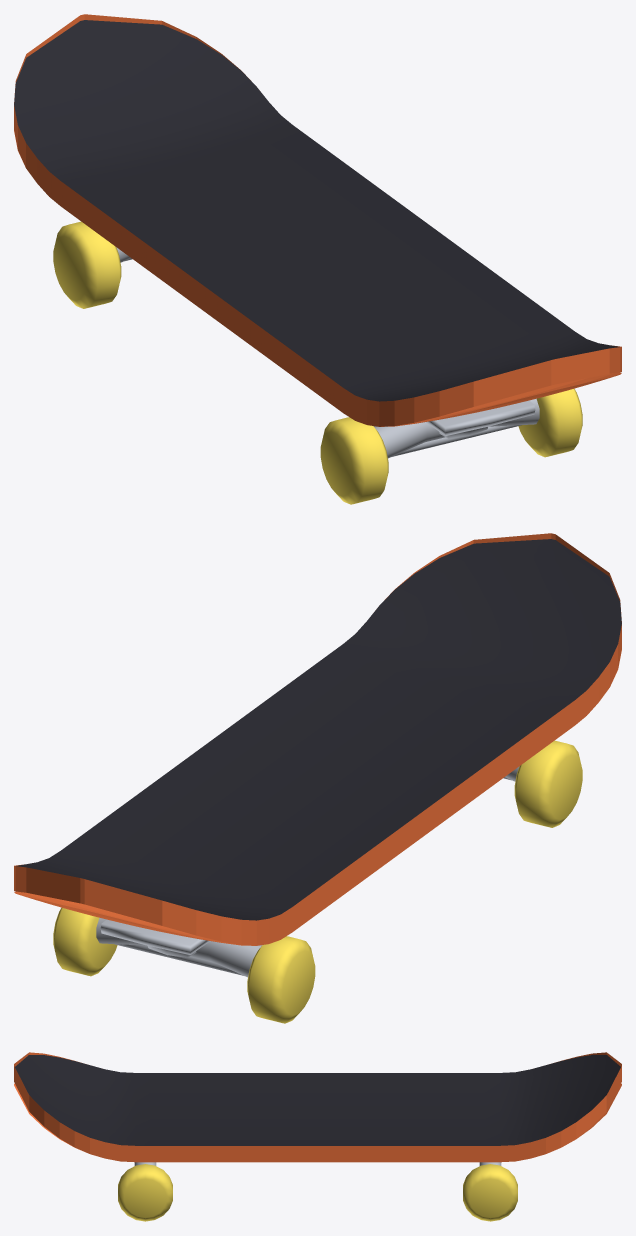
Rendered from SkateBoard.obj.
3 views of the same model, one above another, from view 1: azimuth 30°, elevation 25°; view 2: azimuth 150°, elevation 25°; view 3: azimuth 270°, elevation 25° (orthographic). The views are drawn at different scales.
Visible parts, largest first — view 1: Grip, Deck, Wheels, Trucks; view 2: Grip, Deck, Wheels, Trucks; view 3: Grip, Deck, Wheels.
Part boxes in pixels (x1,y1,x2,y2): Grip: (14,20,619,401); Deck: (14,14,621,426); Wheels: (53,221,582,504); Trucks: (116,247,539,458); Grip: (16,539,621,920); Deck: (14,533,621,945); Wheels: (53,740,582,1023); Trucks: (96,766,519,977); Grip: (15,1055,620,1145); Deck: (14,1052,621,1162); Wheels: (118,1164,517,1221).
Bounding box in the file's own units: 1.05 × 0.825 × 3.7.
